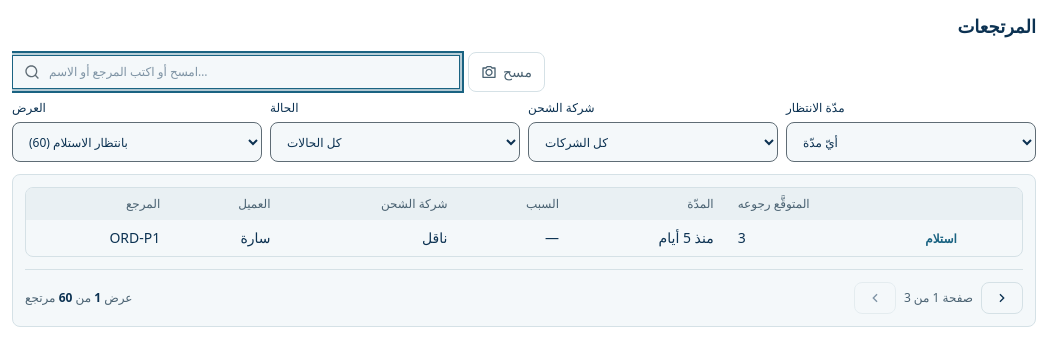
Test: putting everything back › — «إعادة تعيين» puts the VIEW back on the work too: from the record, one press and the desk is where it opens
This screenshot has width=1053, height=344.
Select "تم استلامها (14)" in the dropdown labelled "العرض" at (137, 142), box x1=12 y1=122 x2=262 y2=162
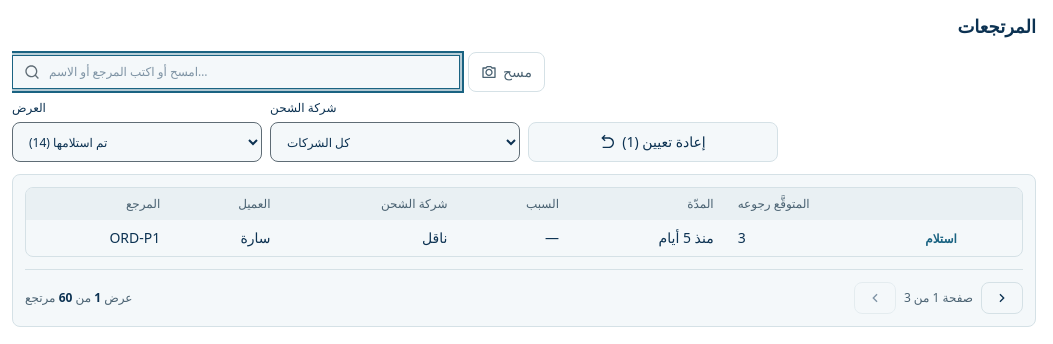
Click the button "إعادة تعيين (1)" at (653, 142), box x1=528 y1=122 x2=778 y2=162
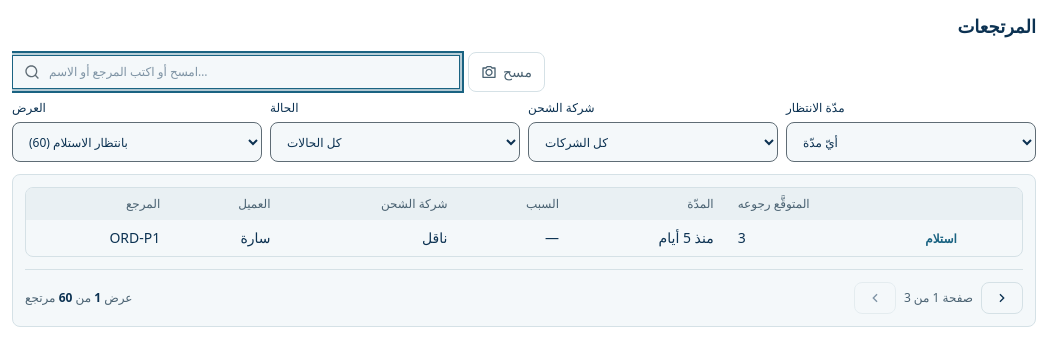
Now the button "إعادة تعيين" is gone
